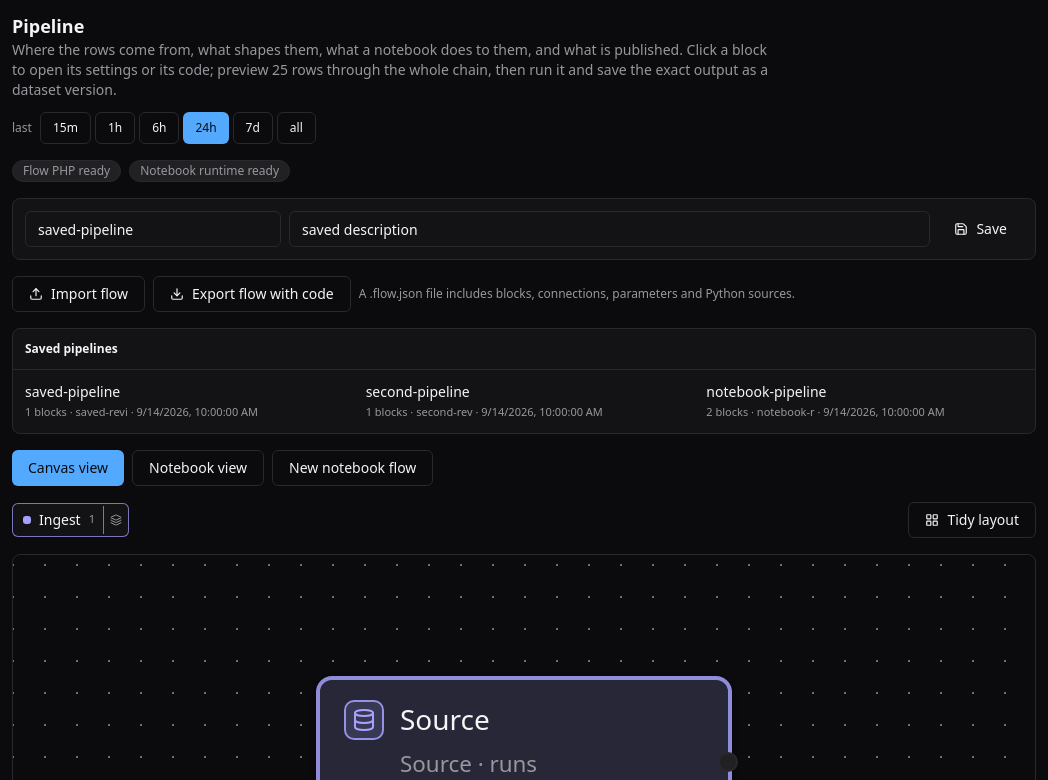
Test case: does not attach an old successful save to another pipeline
Expected: the button "saved-pipeline" is shown, [13,370,354,432]
Replace the text in the field named "Pipeline description" with "submitted". click: coordinates (610, 229)
box: [289,211,930,247]
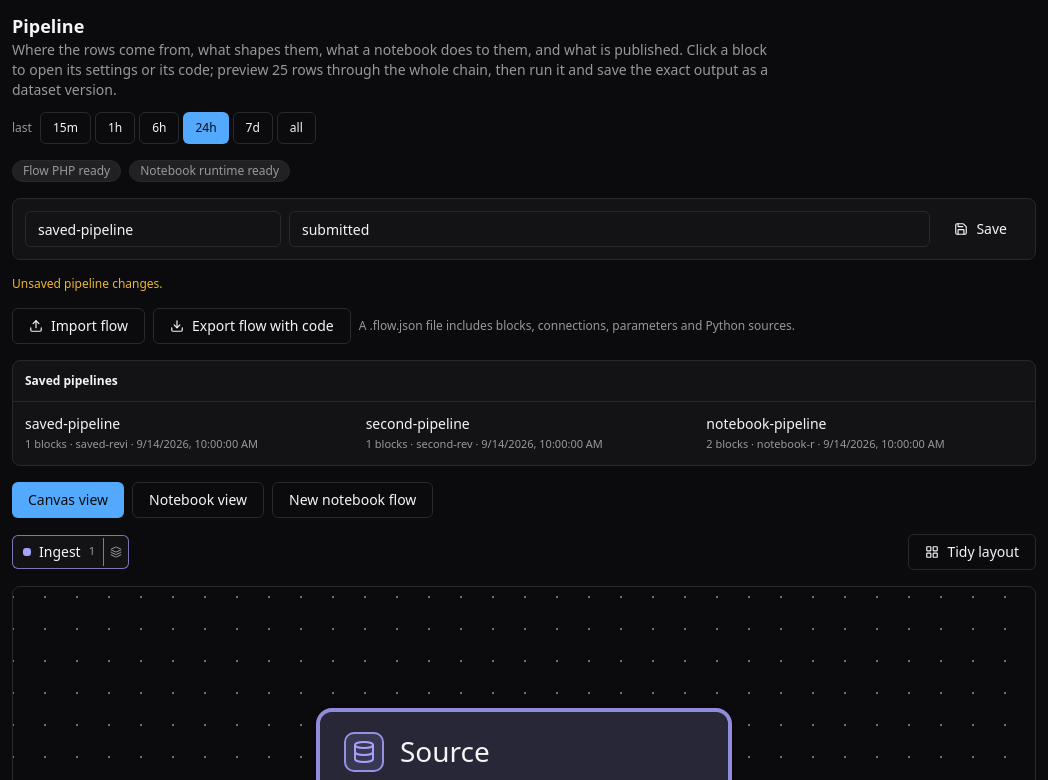
Click the button with aria-label "Save pipeline". click: coordinates (981, 229)
box: [938,211,1023,247]
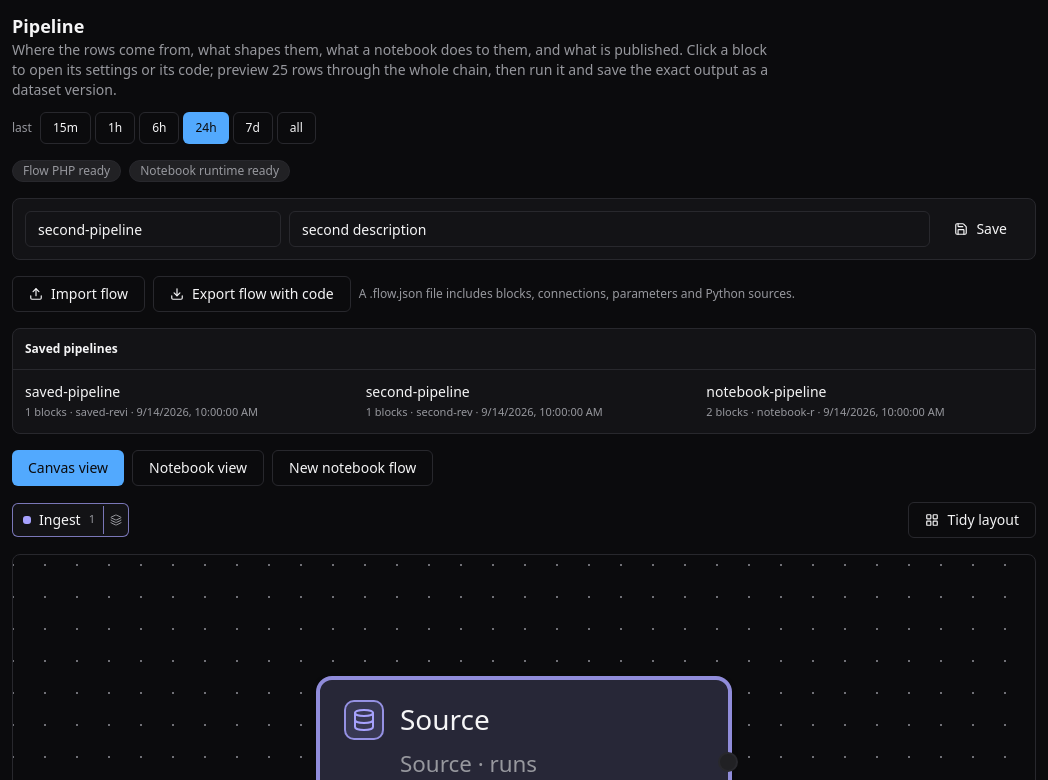
Now the field named "Pipeline name" holds "second-pipeline", box [25,211,281,247]
Now the field named "Pipeline description" holds "second description", box [289,211,930,247]
Now the text "Unsaved pipeline changes." is gone
